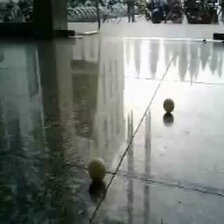w: (88, 157, 106, 180), (163, 98, 175, 113)
